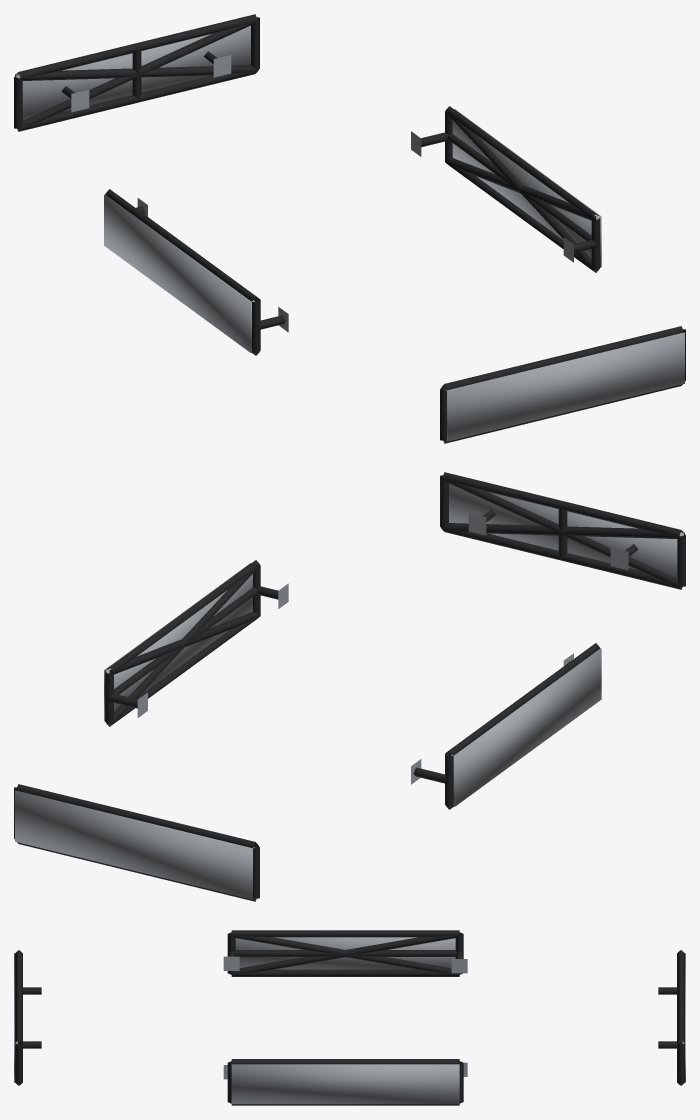
Rendered from tridella_cutelo_protecao.glb.
The picture shows the model from 3 angles, top to bottom: view 1: azimuth 30°, elevation 25°; view 2: azimuth 150°, elevation 25°; view 3: azimuth 270°, elevation 25°; orthographic projection. The views are drawn at different scales.
Visible parts, largest first — view 1: Protection_front_Level3_Details, Protection_left_Level3_Details, Protection_rear_Level1_Details, Protection_rear_Level3_Details, Protection_right_Level1_Details, Protection_rear_Level2_Details, Protection_right_Level2_Details, Protection_right_Level3_Details, Protection_front_Level1_Details, Protection_left_Level1_Details; view 2: Protection_rear_Level3_Details, Protection_left_Level3_Details, Protection_front_Level1_Details, Protection_front_Level3_Details, Protection_right_Level1_Details, Protection_front_Level2_Details, Protection_right_Level2_Details, Protection_right_Level3_Details, Protection_rear_Level1_Details, Protection_left_Level1_Details; view 3: Protection_right_Level3_Details, Protection_left_Level1_Details, Protection_left_Level2_Details, Protection_left_Level3_Details, Protection_right_Level1_Details, Protection_rear_Level1_Details, Protection_front_Level1_Details.
Part boxes in pixels (x1,y1,x2,y2): Protection_front_Level3_Details: (445,332,684,441); Protection_left_Level3_Details: (104,194,254,352); Protection_rear_Level1_Details: (14,14,259,131); Protection_rear_Level3_Details: (15,25,250,120); Protection_right_Level1_Details: (411,106,600,272); Protection_rear_Level2_Details: (16,20,257,130); Protection_right_Level2_Details: (445,112,598,272); Protection_right_Level3_Details: (452,109,601,267); Protection_front_Level1_Details: (440,326,685,443); Protection_left_Level1_Details: (105,189,288,355); Protection_rear_Level3_Details: (15,790,254,899); Protection_left_Level3_Details: (451,648,601,806); Protection_front_Level1_Details: (440,472,685,589); Protection_front_Level3_Details: (449,483,684,578); Protection_right_Level1_Details: (105,560,288,726); Protection_front_Level2_Details: (442,478,683,588); Protection_right_Level2_Details: (105,566,259,726); Protection_right_Level3_Details: (104,563,252,721); Protection_rear_Level1_Details: (14,784,259,901); Protection_left_Level1_Details: (411,643,600,809); Protection_right_Level3_Details: (231,1064,459,1104); Protection_left_Level1_Details: (223,930,467,976); Protection_left_Level2_Details: (231,933,459,974); Protection_left_Level3_Details: (235,937,455,969); Protection_right_Level1_Details: (223,1059,467,1105); Protection_rear_Level1_Details: (658,950,684,1085); Protection_front_Level1_Details: (15,950,41,1085).
Size of the model in its own units: 2.17 by 0.354 by 4.63.
Materials: 1 (1 with a texture image).
